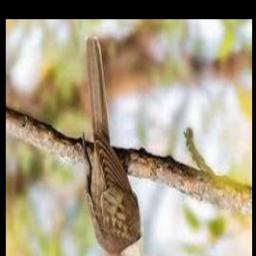Cuckoo: (84, 36, 154, 256)
